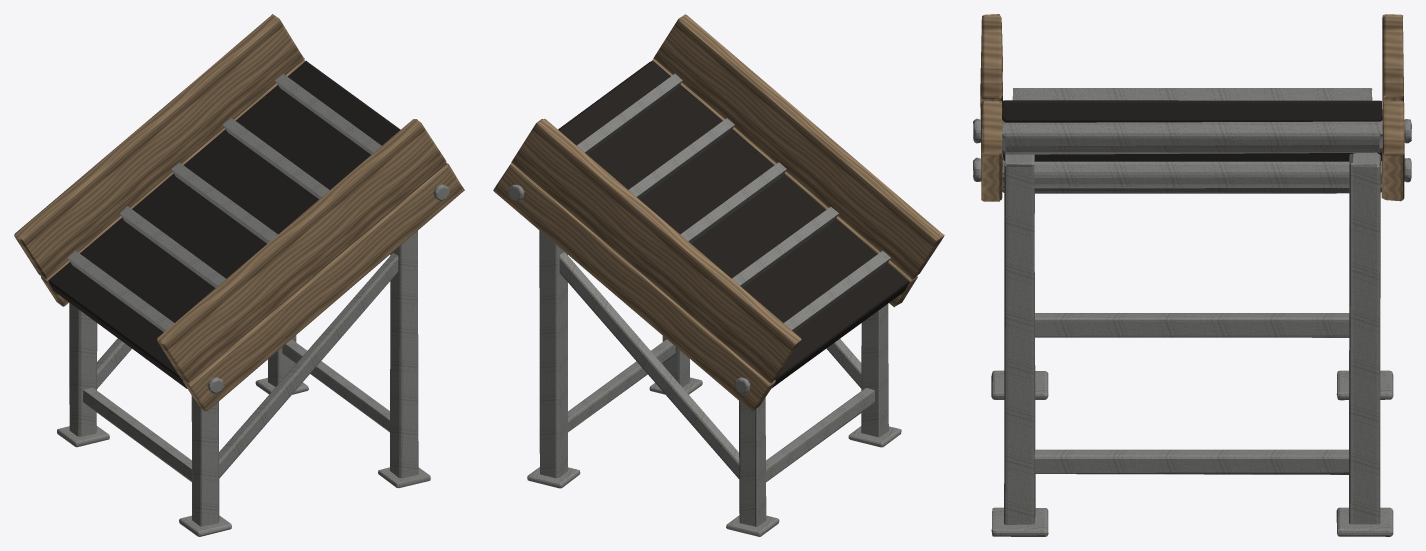
File: conveyor_ramp.glb
3 renders of one model, left to right at view 1: azimuth 30°, elevation 25°; view 2: azimuth 150°, elevation 25°; view 3: azimuth 270°, elevation 25°, orthographic. The views are drawn at different scales.
Parts seen in each view (by area): view 1: ConveyorRamp; view 2: ConveyorRamp; view 3: ConveyorRamp.
Part boxes in pixels (x1,y1,x2,y2): ConveyorRamp: (14, 14, 464, 536); ConveyorRamp: (493, 14, 944, 536); ConveyorRamp: (973, 14, 1411, 536).
Size of the model in its own units: 1.96 by 2.26 by 1.74.
Materials: 3 (2 with a texture image).
